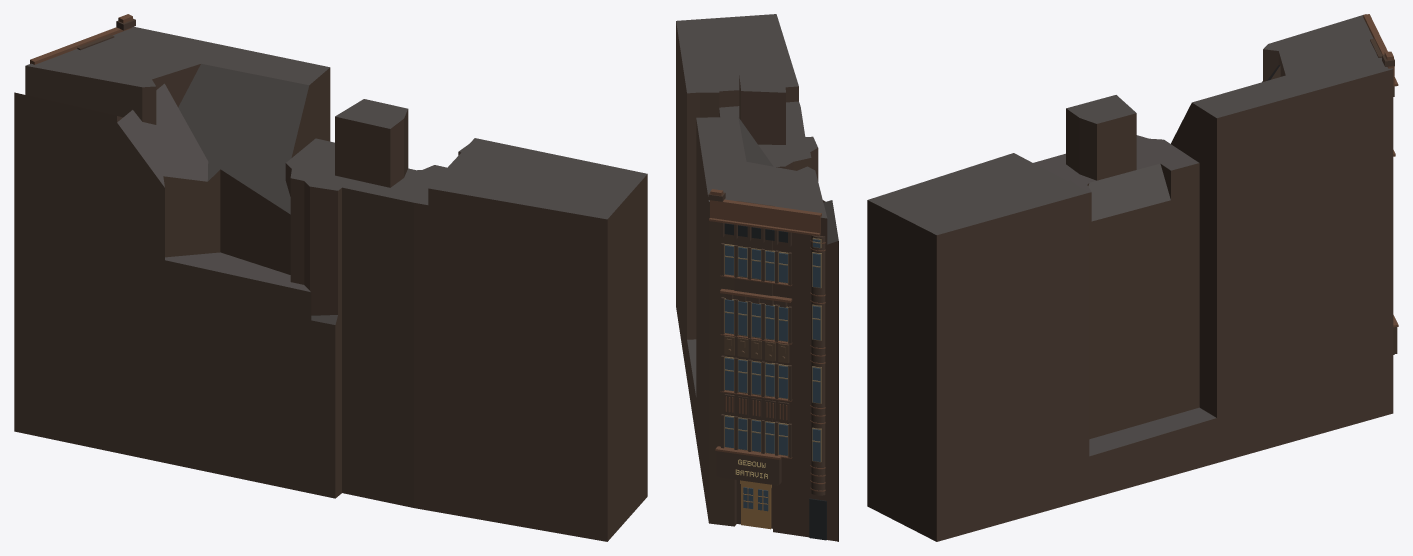
File: batavia-prins-hendrikkade.glb
The picture shows the model from 3 angles, left to right: view 1: azimuth 30°, elevation 25°; view 2: azimuth 150°, elevation 25°; view 3: azimuth 270°, elevation 25°; orthographic projection. The views are drawn at different scales.
Visible parts, largest first — view 1: batavia-prins-hendrikkade; view 2: batavia-prins-hendrikkade; view 3: batavia-prins-hendrikkade.
Boxes of the visible parts, box(x1,y1,x2,y2) form: batavia-prins-hendrikkade: box(14, 14, 647, 541); batavia-prins-hendrikkade: box(676, 14, 838, 541); batavia-prins-hendrikkade: box(867, 14, 1398, 541).
Size of the model in its own units: 25.26 by 22.15 by 29.95.
